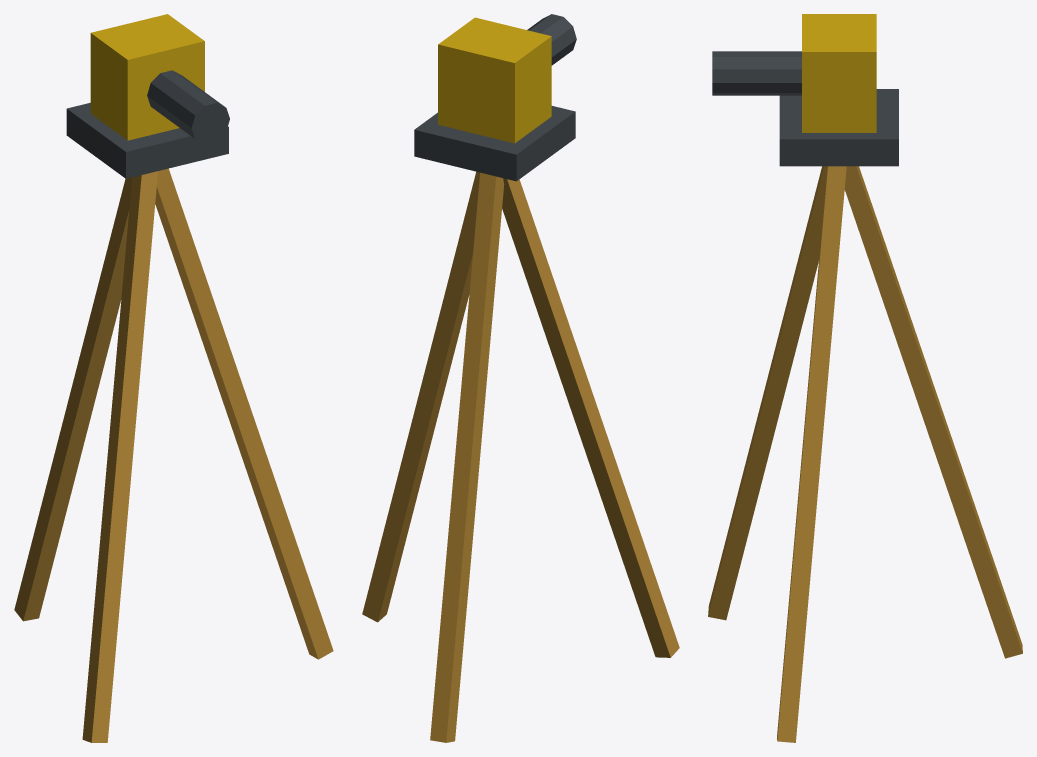
Rendered from w-survey-tripod.glb.
The picture shows the model from 3 angles, left to right: view 1: azimuth 30°, elevation 25°; view 2: azimuth 150°, elevation 25°; view 3: azimuth 270°, elevation 25°; orthographic projection.
Parts seen in each view (by area): view 1: w-survey-tripod; view 2: w-survey-tripod; view 3: w-survey-tripod.
Part boxes in pixels (x1,y1,x2,y2): w-survey-tripod: [14, 14, 333, 742]; w-survey-tripod: [362, 14, 679, 742]; w-survey-tripod: [708, 14, 1022, 742].
Bounding box in the file's own units: 0.4295 × 0.9452 × 0.4221.
